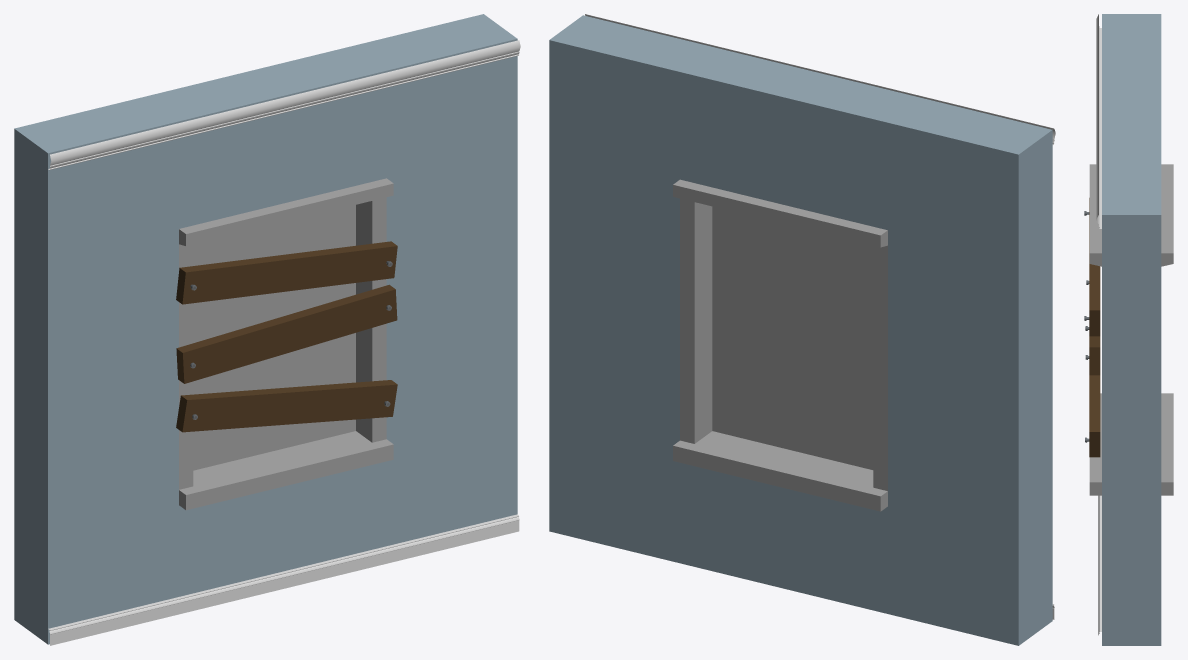
Rendered from SM_Wall_Window_Boarded.fbx.
3 renders of one model, left to right at view 1: azimuth 30°, elevation 25°; view 2: azimuth 150°, elevation 25°; view 3: azimuth 270°, elevation 25°, orthographic. The views are drawn at different scales.
Visible parts, largest first — view 1: SM_Wall_Window_Boarded; view 2: SM_Wall_Window_Boarded; view 3: SM_Wall_Window_Boarded.
Part boxes in pixels (bbox=[...]): SM_Wall_Window_Boarded: bbox=[14, 14, 520, 645]; SM_Wall_Window_Boarded: bbox=[549, 14, 1055, 645]; SM_Wall_Window_Boarded: bbox=[1084, 14, 1173, 645].
Bounding box in the file's own units: 2 × 2 × 0.377.
Materials: 6 (1 with a texture image).
